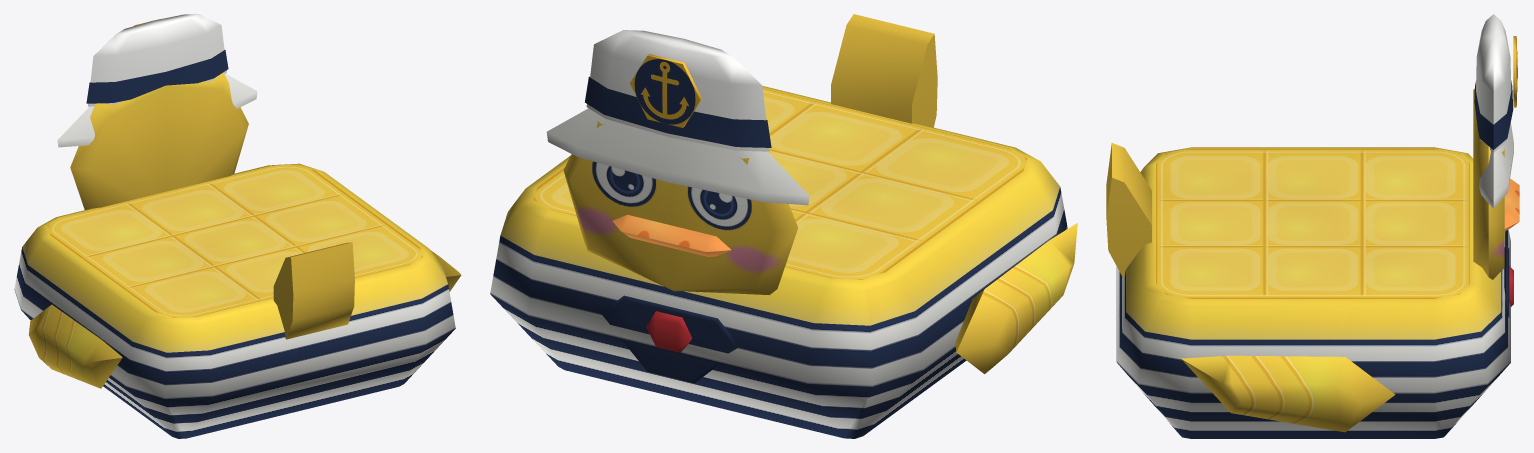
The model's file is pool_duck_sailor_lod1.glb.
3 views of the same model, side by side, from view 1: azimuth 30°, elevation 25°; view 2: azimuth 150°, elevation 25°; view 3: azimuth 270°, elevation 25° (orthographic). The views are drawn at different scales.
Parts seen in each view (by area): view 1: pool_duck_sailor_LOD1; view 2: pool_duck_sailor_LOD1; view 3: pool_duck_sailor_LOD1.
Boxes of the visible parts, x1,y1,x2,y2 form: pool_duck_sailor_LOD1: (14,14,461,438); pool_duck_sailor_LOD1: (490,14,1077,438); pool_duck_sailor_LOD1: (1106,14,1519,438).
Bounding box in the file's own units: 12 × 9 × 10.
1 material, 1 textured.
